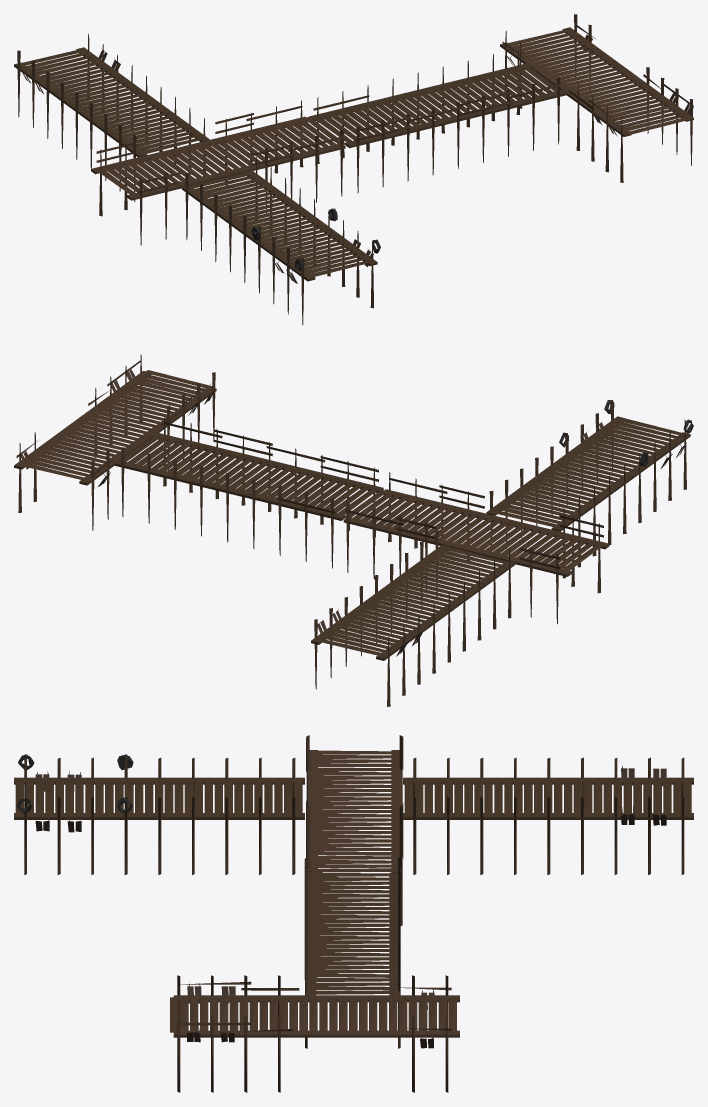
The model's file is wharf.lod1.glb.
3 views of the same model, one above another, from view 1: azimuth 30°, elevation 25°; view 2: azimuth 150°, elevation 25°; view 3: azimuth 270°, elevation 25° (orthographic). The views are drawn at different scales.
Visible parts, largest first — view 1: Object_2; view 2: Object_2; view 3: Object_2.
Boxes of the visible parts, x1,y1,x2,y2 form: Object_2: [14, 14, 693, 325]; Object_2: [14, 354, 693, 706]; Object_2: [14, 735, 693, 1092].
Bounding box in the file's own units: 30 × 3.8 × 29.87.
